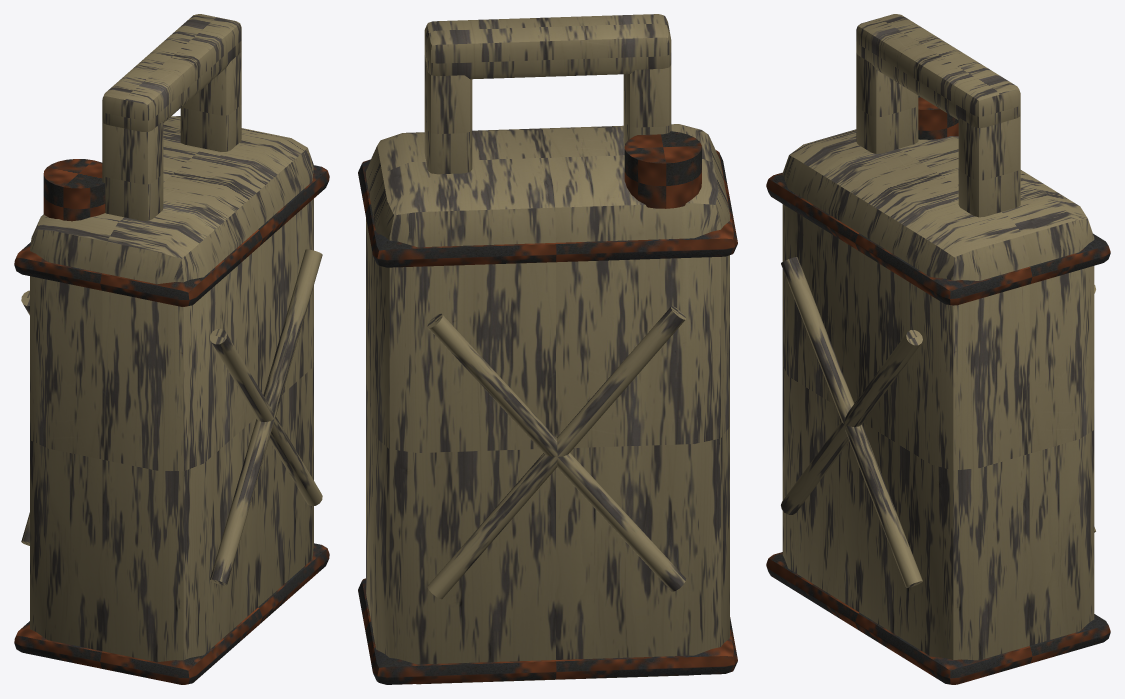
Rendered from SM_MetalFuelContainer_5e843cd5a5.fbx.
3 views of the same model, side by side, from view 1: azimuth 30°, elevation 25°; view 2: azimuth 150°, elevation 25°; view 3: azimuth 270°, elevation 25° (orthographic). The views are drawn at different scales.
Parts seen in each view (by area): view 1: SM_MetalFuelContainer_5e843cd5a5; view 2: SM_MetalFuelContainer_5e843cd5a5; view 3: SM_MetalFuelContainer_5e843cd5a5.
Part boxes in pixels (bbox=[...]): SM_MetalFuelContainer_5e843cd5a5: bbox=[14, 14, 329, 684]; SM_MetalFuelContainer_5e843cd5a5: bbox=[358, 14, 737, 684]; SM_MetalFuelContainer_5e843cd5a5: bbox=[766, 14, 1110, 684].
Size of what is drawn, in the model's own units: 37.55 by 34.16 by 62.
Materials: 2 (2 with a texture image).
